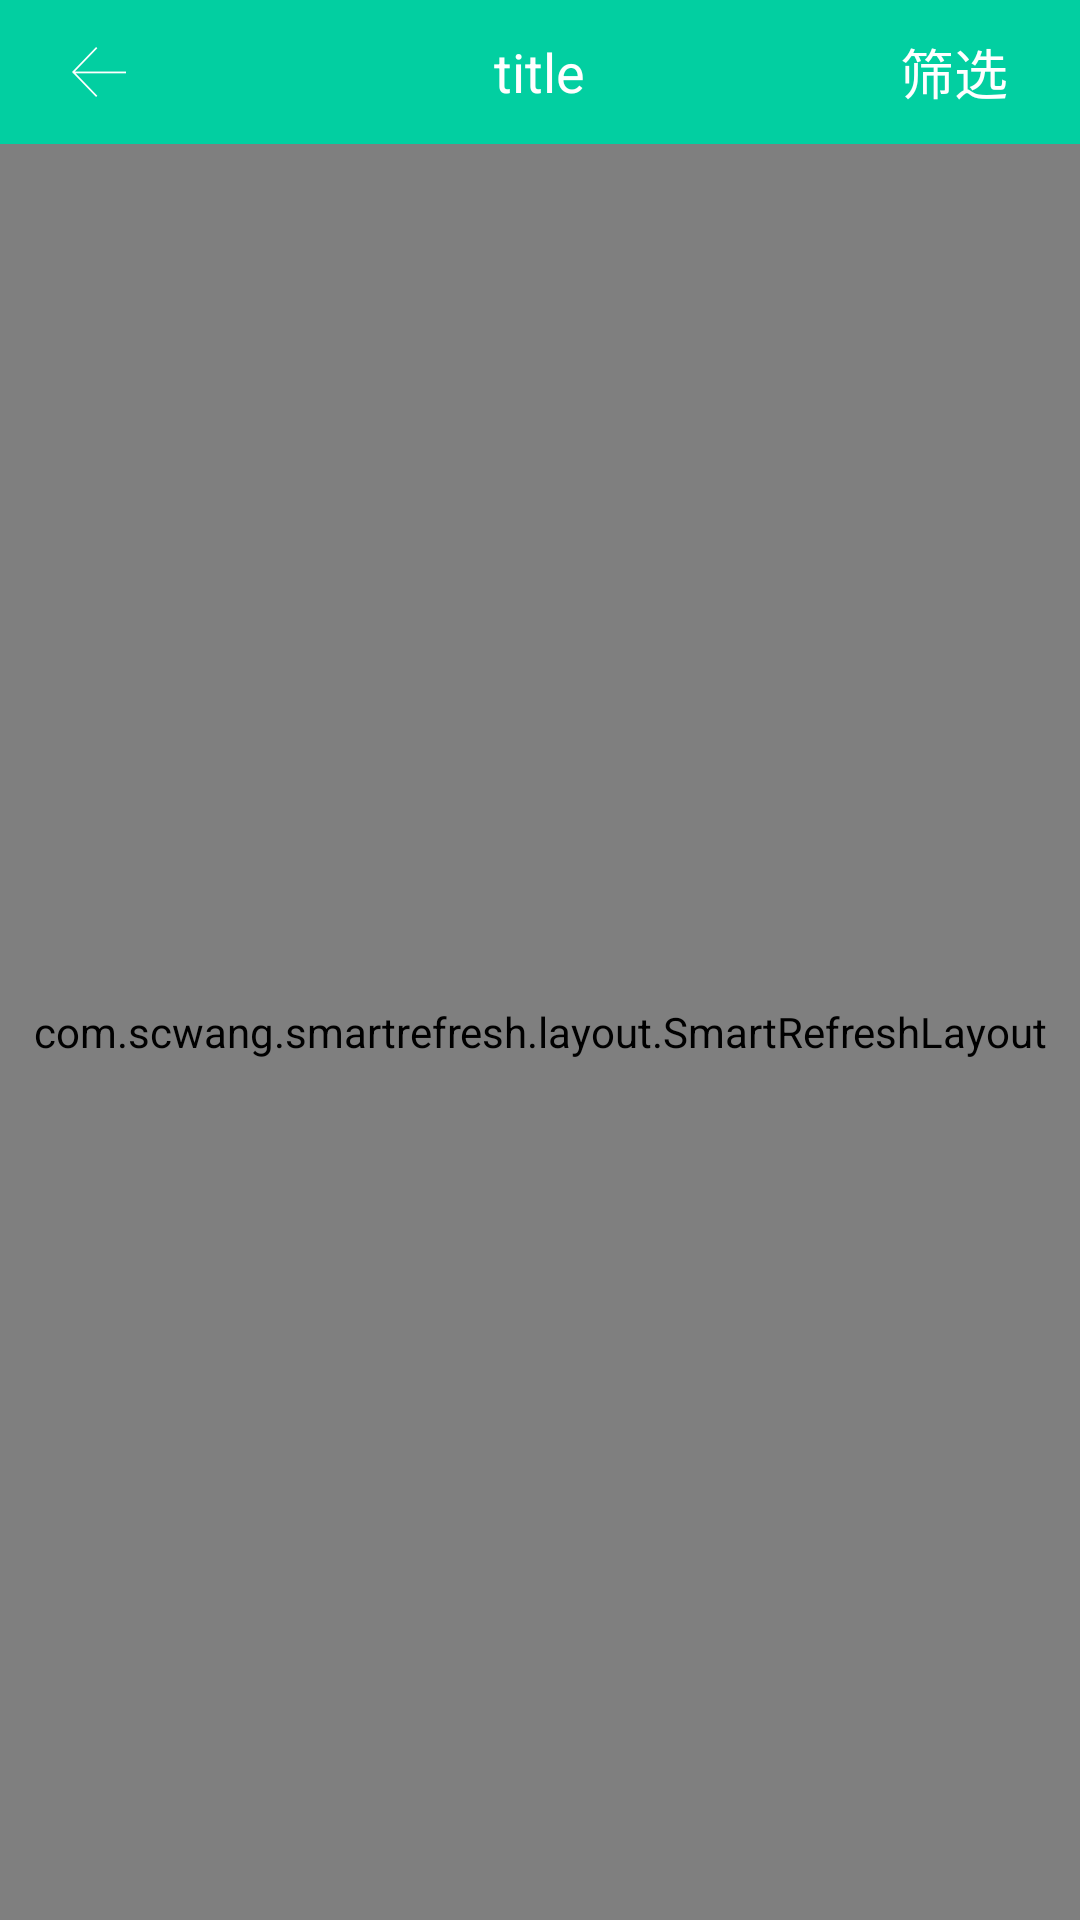

Where to tap for icons on this 1080×1920 app screen, as (x=x, y=y):
back: (x=99, y=72)
